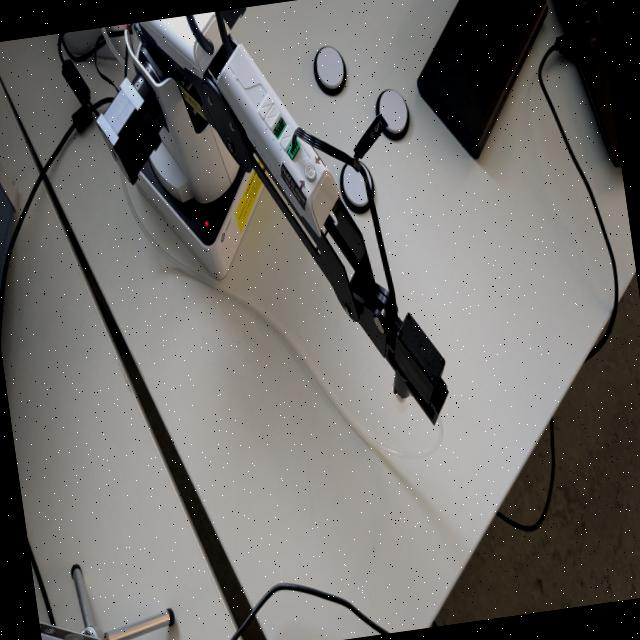Robot-end-effector-HF8z: (378, 302, 456, 432)
